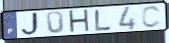0: (45, 10, 66, 36)
4: (117, 6, 139, 32)
C: (141, 5, 163, 29)
H: (67, 8, 92, 35)
J: (20, 11, 42, 37)
L: (94, 9, 113, 32)
